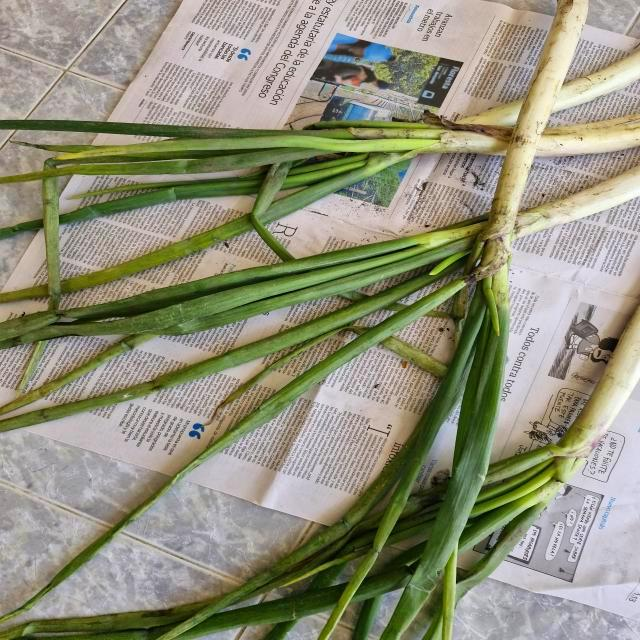green_onion: (375, 10, 596, 640)
